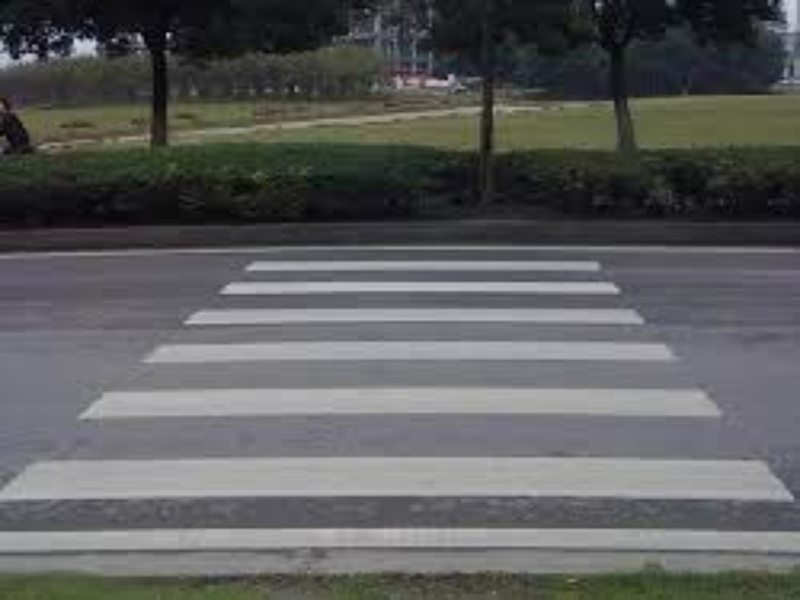zebra cross: (4, 255, 796, 552)
